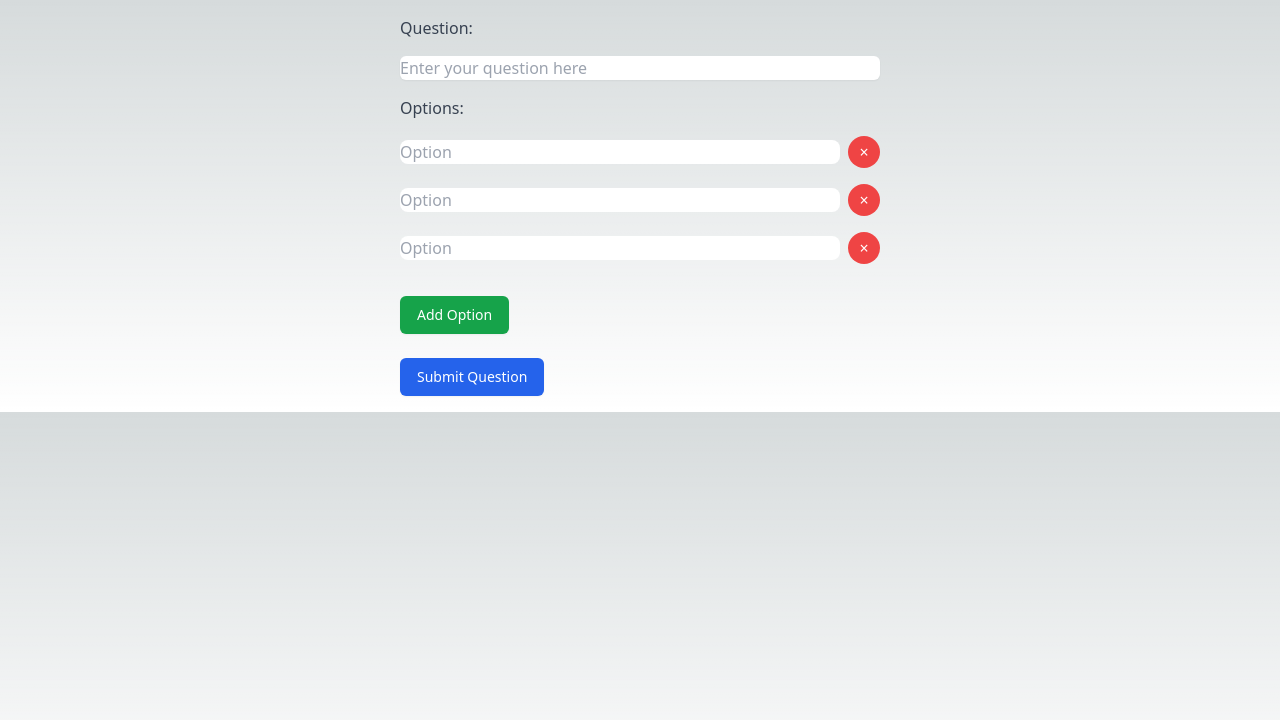
Test: allows adding and removing options
Step 1. Click the button "Add Option" → (455, 315), box [400,296,509,334]
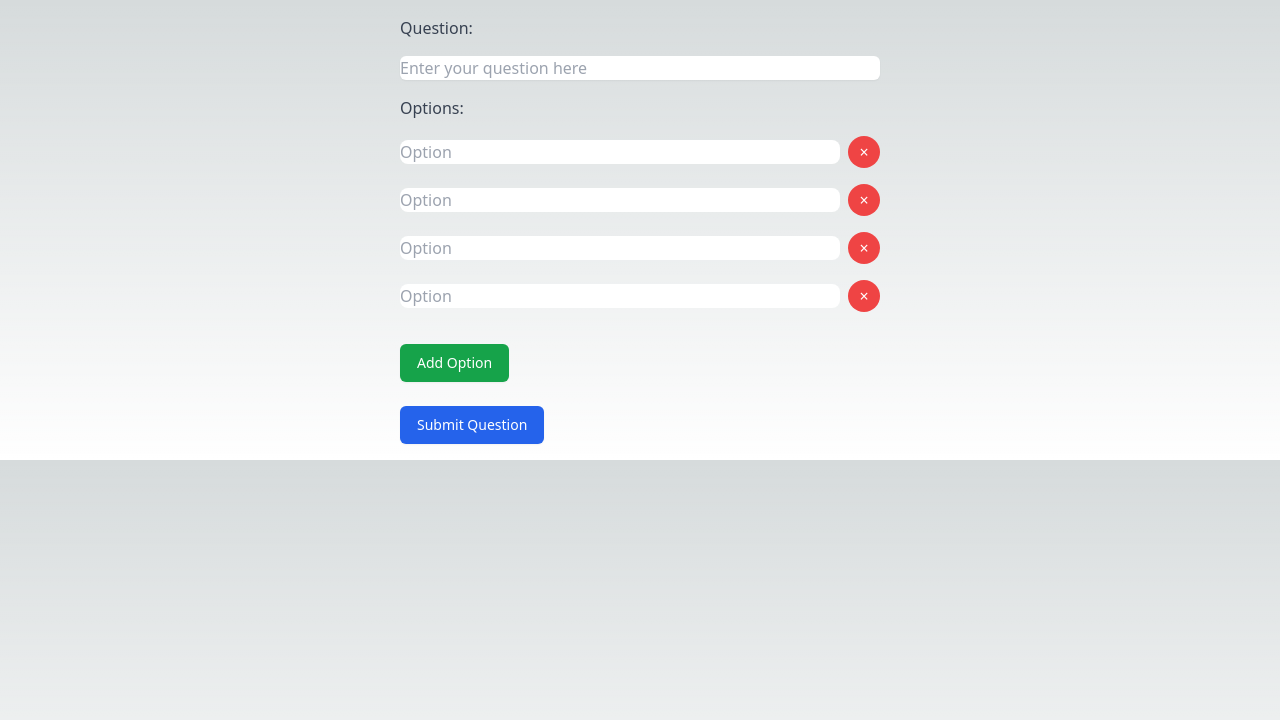
Expected: the number of fields named "Option input" is 4, [400,140,840,164]; [400,188,840,212]; [400,236,840,260]; [400,284,840,308]
Step 2. Click the 1st button "×" → (864, 152), box [848,136,880,168]
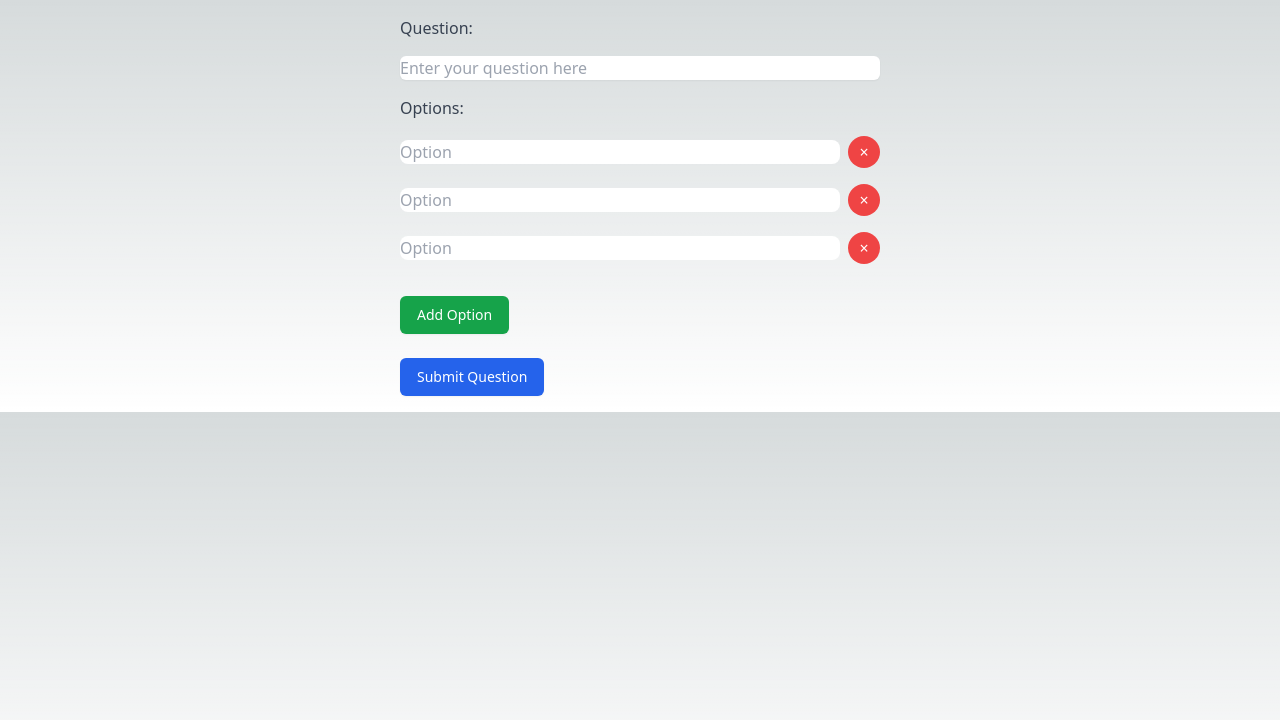
Expected: the number of fields named "Option input" is 3, [400,140,840,164]; [400,188,840,212]; [400,236,840,260]
